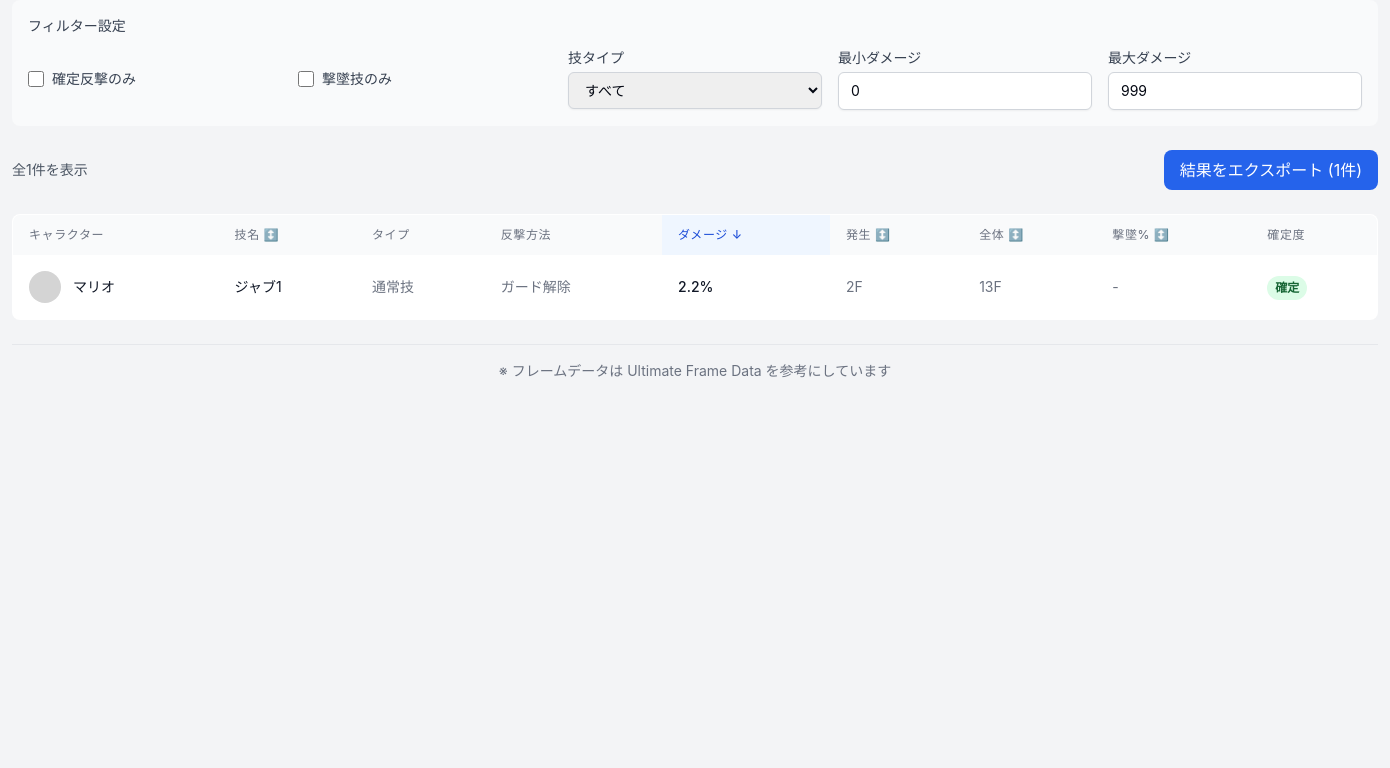
ResultsTableContainer › エクスポートボタンが機能する
The image size is (1390, 768).
Step 1. Click the button "結果をエクスポート (1件)" → coordinates (1271, 170), box left=1164, top=150, right=1378, bottom=190
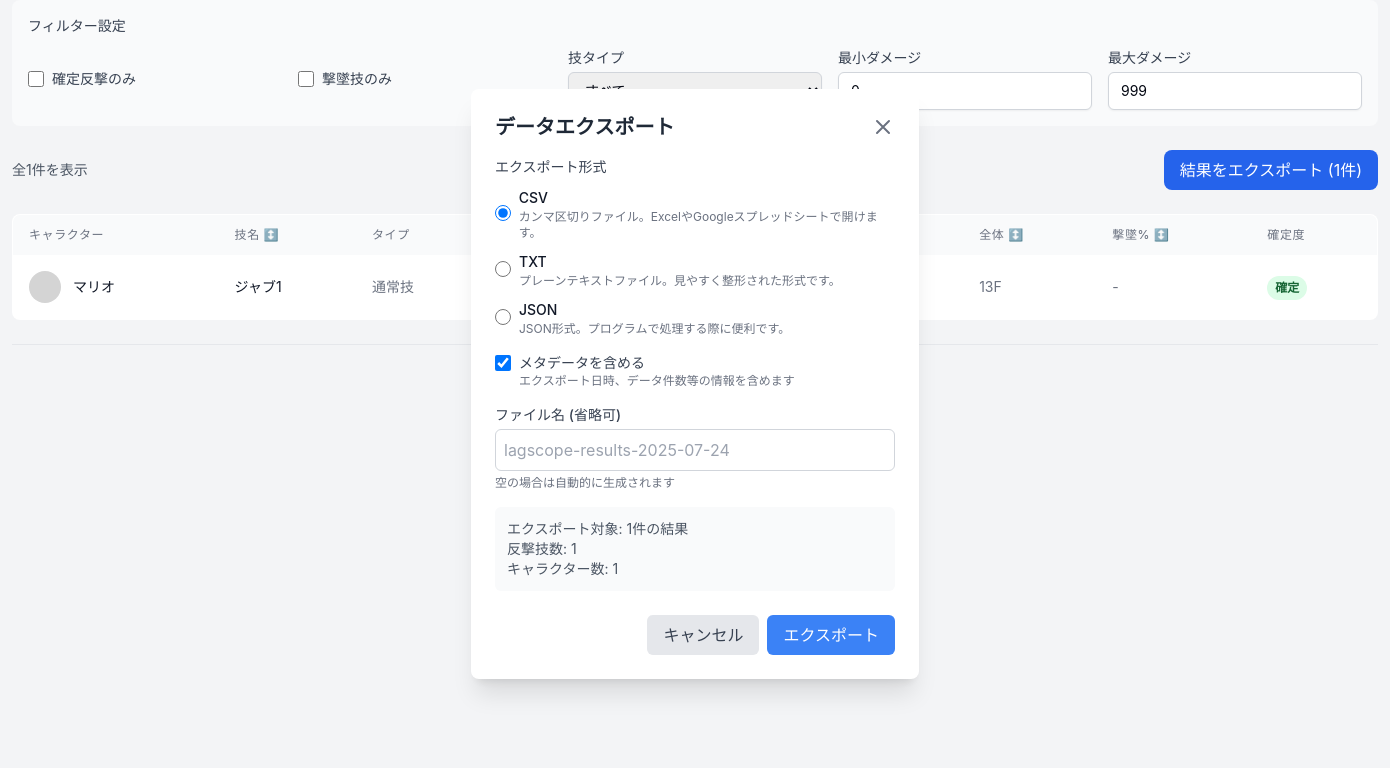
Expected: the heading "データエクスポート" is shown, left=495, top=113, right=674, bottom=141
